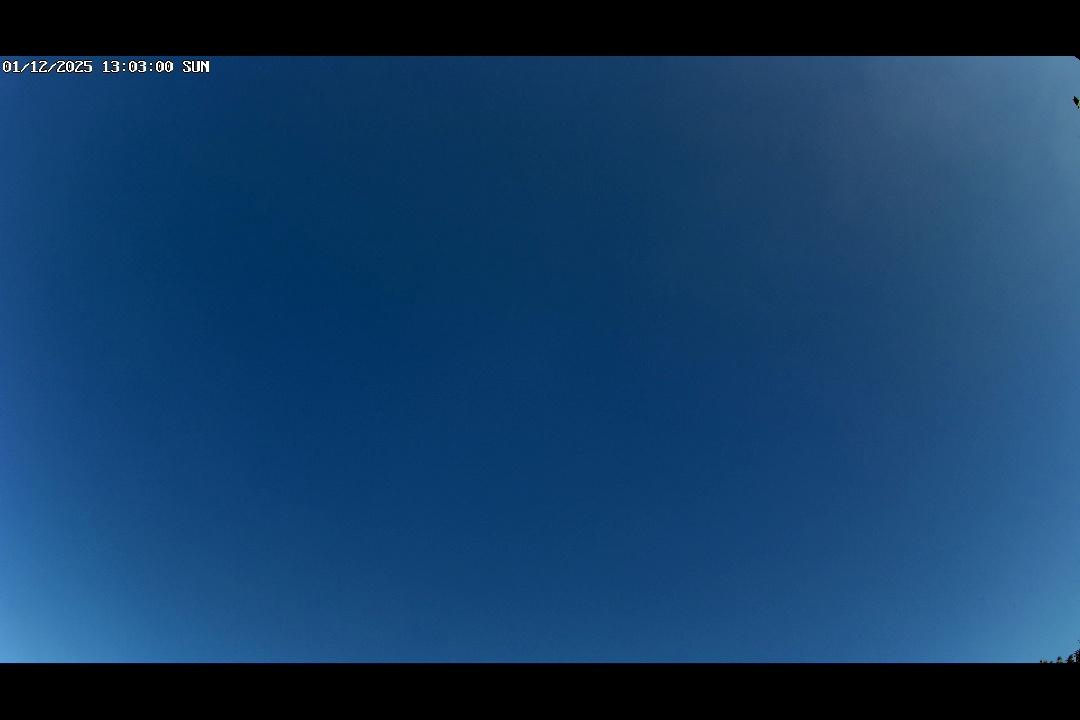WildLife: (1065, 88, 1080, 117)
